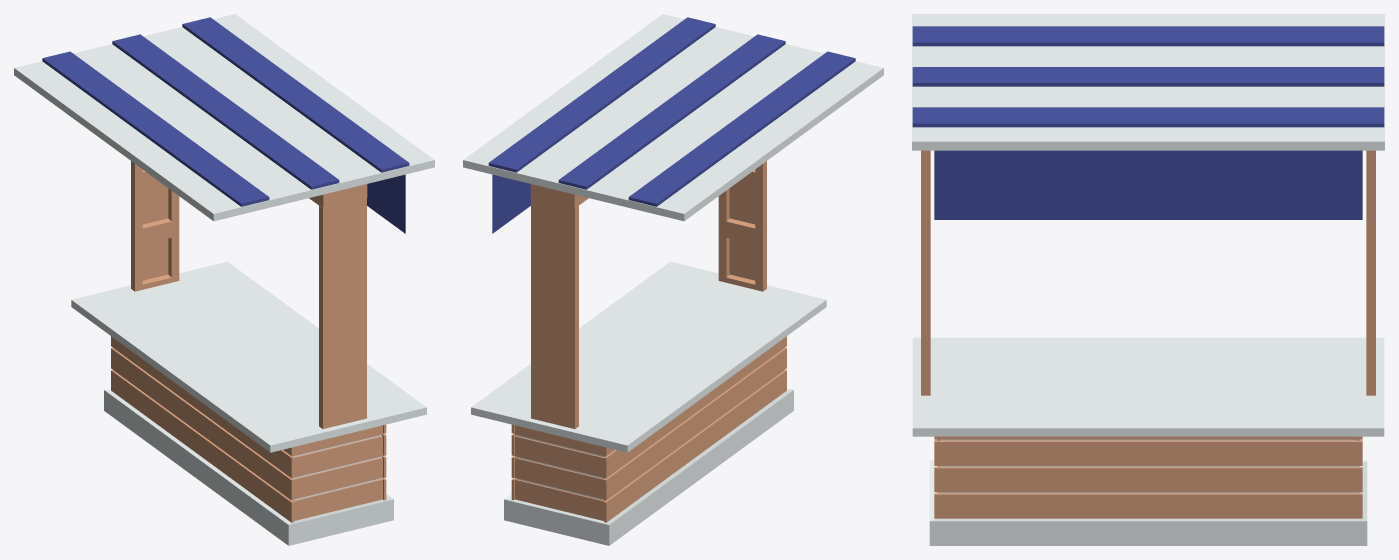
Rendered from booth2.5.fbx.
3 renders of one model, left to right at view 1: azimuth 30°, elevation 25°; view 2: azimuth 150°, elevation 25°; view 3: azimuth 270°, elevation 25°, orthographic. The views are drawn at different scales.
Parts seen in each view (by area): view 1: Cube, Cube.013, Cube.016, Cube.006, Cube.017, Cube.018, Plane.001, Cube.012; view 2: Cube, Cube.013, Cube.016, Cube.006, Cube.017, Cube.018, Plane.001, Cube.012; view 3: Cube, Cube.013, Cube.017, Plane.001, Cube.016, Cube.006.
Boxes of the visible parts, box(x1,y1,x2,y2) form: Cube: box(71, 261, 426, 545); Cube.013: box(14, 14, 434, 221); Cube.016: box(42, 17, 409, 206); Cube.006: box(131, 161, 366, 428); Cube.017: box(111, 336, 386, 522); Cube.018: box(292, 425, 383, 520); Plane.001: box(367, 174, 405, 233); Cube.012: box(309, 184, 367, 208); Cube: box(471, 261, 826, 545); Cube.013: box(463, 14, 883, 221); Cube.016: box(488, 17, 855, 206); Cube.006: box(531, 161, 766, 428); Cube.017: box(511, 336, 786, 522); Cube.018: box(514, 425, 605, 520); Plane.001: box(492, 174, 530, 233); Cube.012: box(530, 184, 588, 208); Cube: box(912, 337, 1384, 545); Cube.013: box(912, 14, 1384, 150); Cube.017: box(934, 436, 1362, 518); Plane.001: box(934, 150, 1362, 219); Cube.016: box(912, 26, 1384, 127); Cube.006: box(921, 150, 1375, 395).
Size of the model in its own units: 825 by 1285 by 1289.
